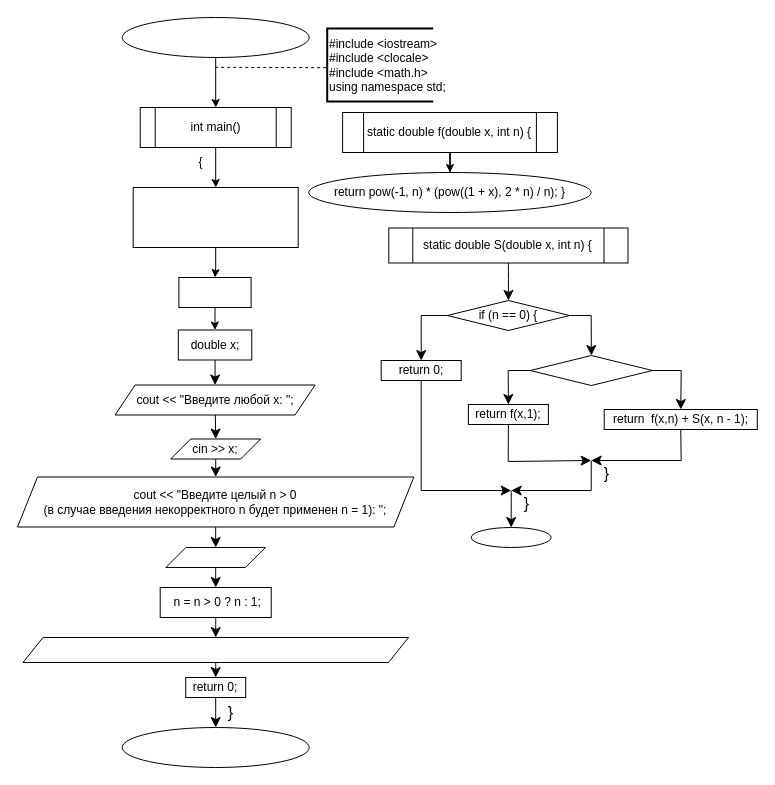
This 775x785 diagram has some shape labels left out. Here are the shapes that lost their labels. From the top down, the box of each, then its label:
(121, 16, 309, 58): Начало
(132, 186, 298, 248): setlocale(LC_ALL, "Russia");
(178, 276, 251, 308): int n;
(529, 354, 652, 386): if (n == 1) {
(165, 546, 265, 568): cin >> n;
(470, 526, 551, 548): return 0; }
(22, 636, 408, 662): cout << "Результатом вычислений будет: " << S(x, n) << endl;
(121, 726, 309, 768): Конец
